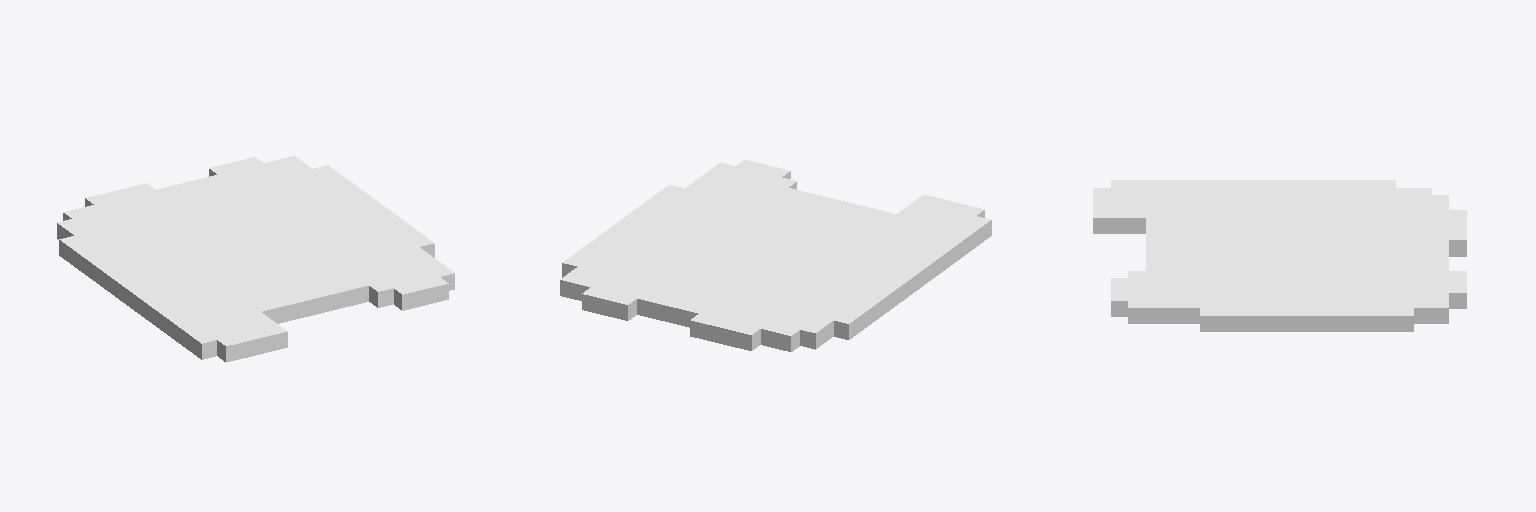
File: BloodyJacket.obj
The picture shows the model from 3 angles: view 1: azimuth 30°, elevation 25°; view 2: azimuth 150°, elevation 25°; view 3: azimuth 270°, elevation 25°; orthographic projection.
Visible parts, largest first — view 1: BloodyJacket; view 2: BloodyJacket; view 3: BloodyJacket.
Part boxes in pixels (x1,y1,x2,y2): BloodyJacket: (57, 156, 454, 362); BloodyJacket: (560, 160, 991, 351); BloodyJacket: (1093, 180, 1466, 331).
Size of the model in its own units: 1.8 by 0.1 by 2.1.